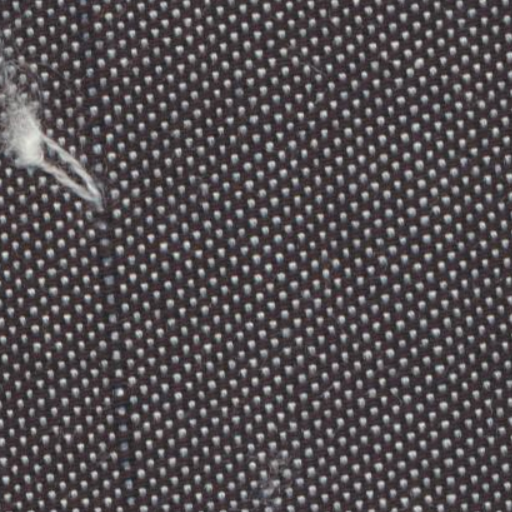DuanSha: (4, 66, 112, 223)
